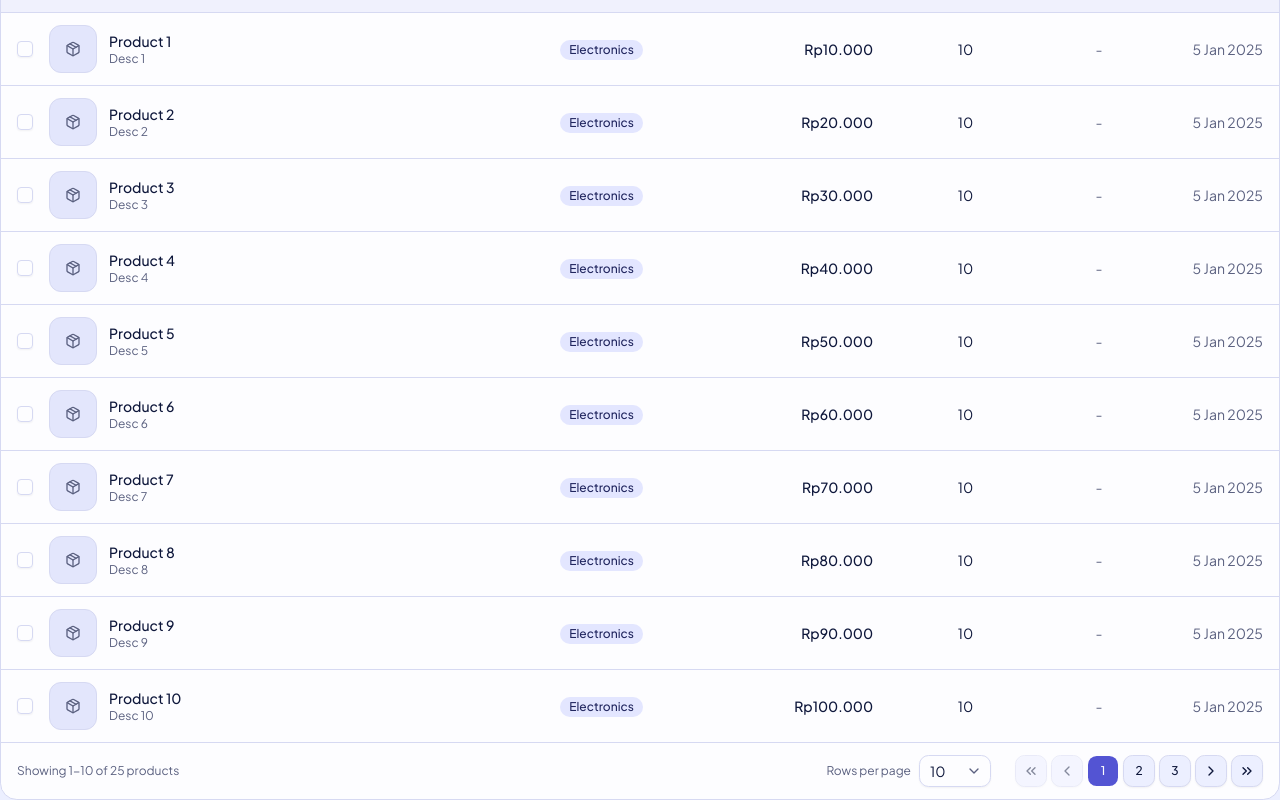
Test case: ProductView: daftar dan search › search mengembalikan pagination ke halaman pertama
This screenshot has width=1280, height=800.
(page scrolled)
Click the button named "Next page" at (1211, 770), box [1195,754,1227,786]
(page scrolled)
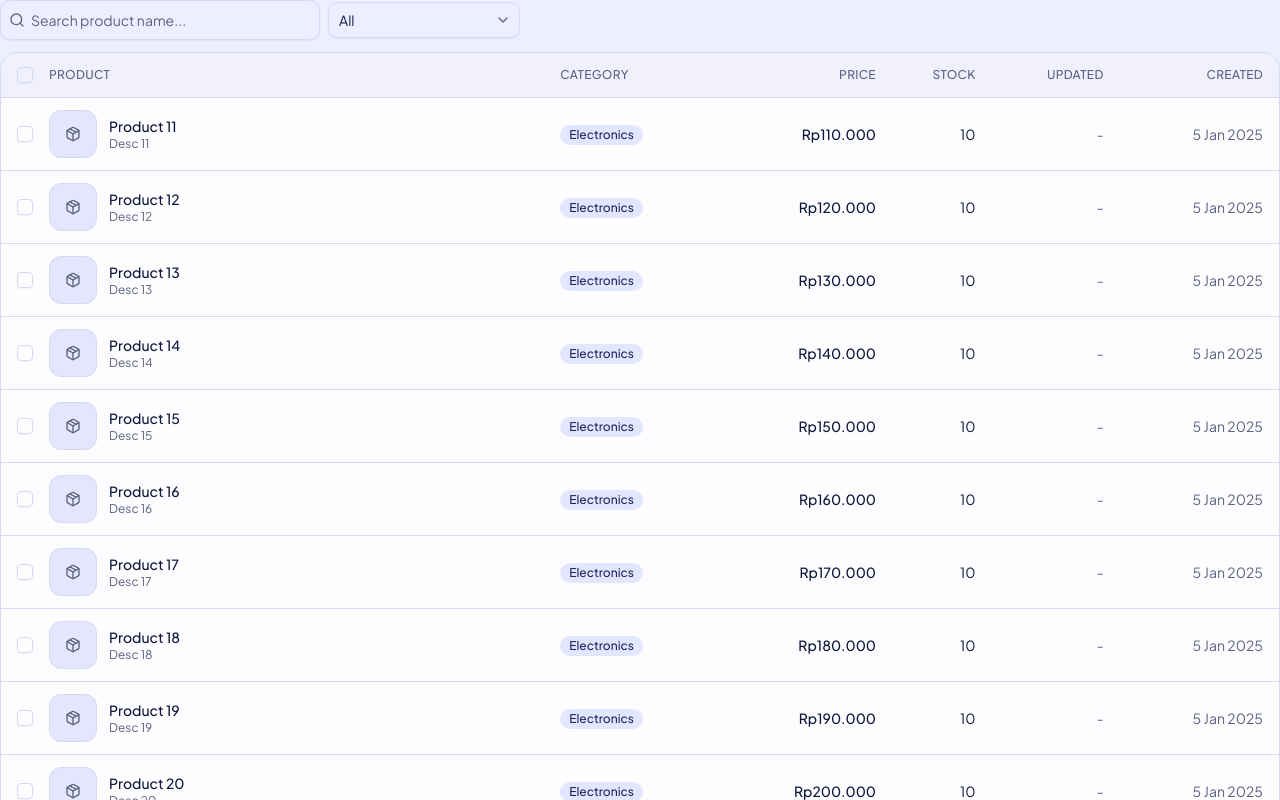
Type "Product 2" into the field with placeholder "Search product name..." at (172, 20), box [25,2,319,38]
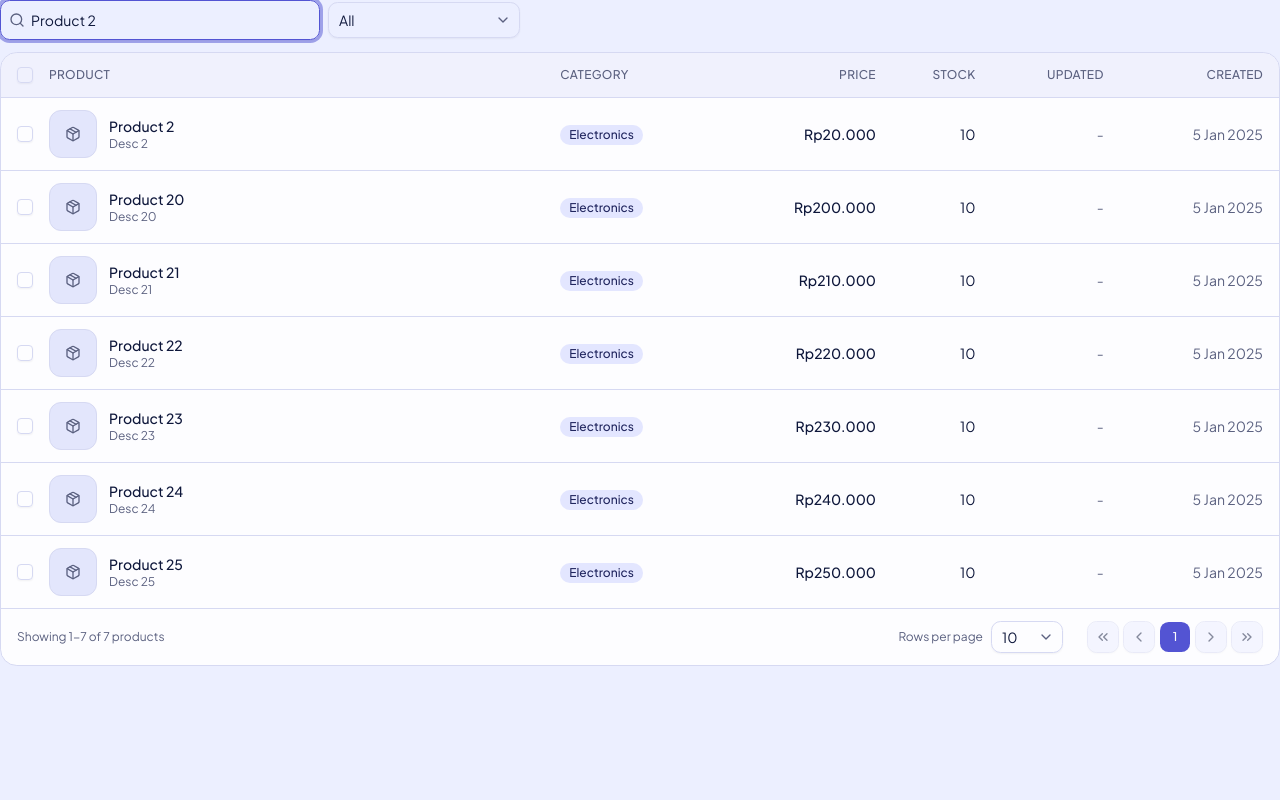
Check: the text "Showing 1-7 of 7 products" is shown, box [17,628,165,644]
